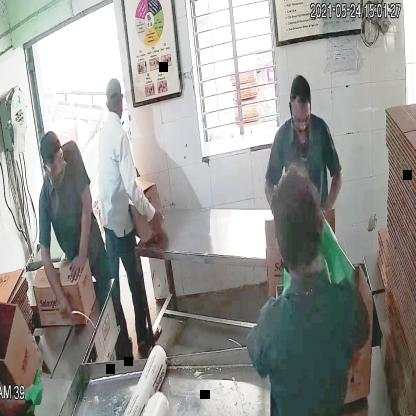goggles: (41, 149, 67, 178)
